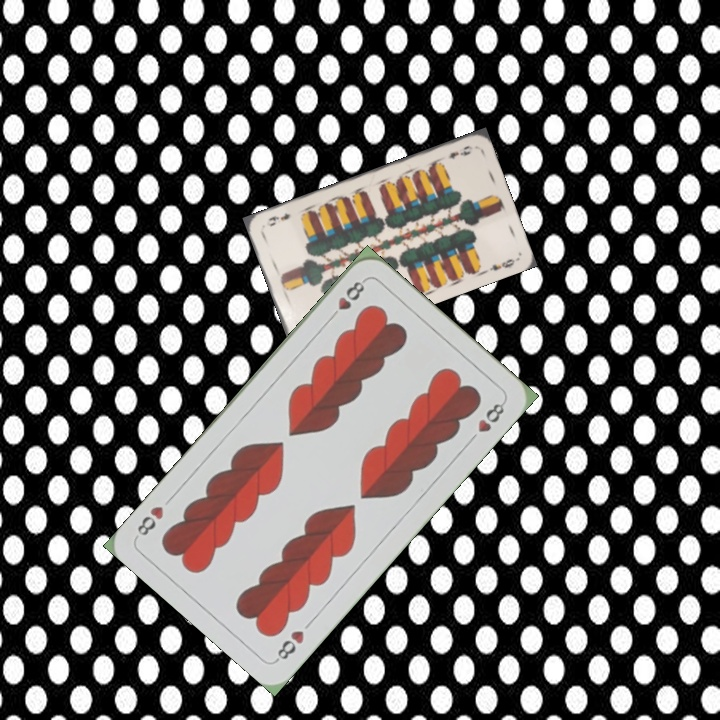E9: (445, 141, 475, 161)
H8: (324, 276, 368, 324), (271, 626, 307, 664)
